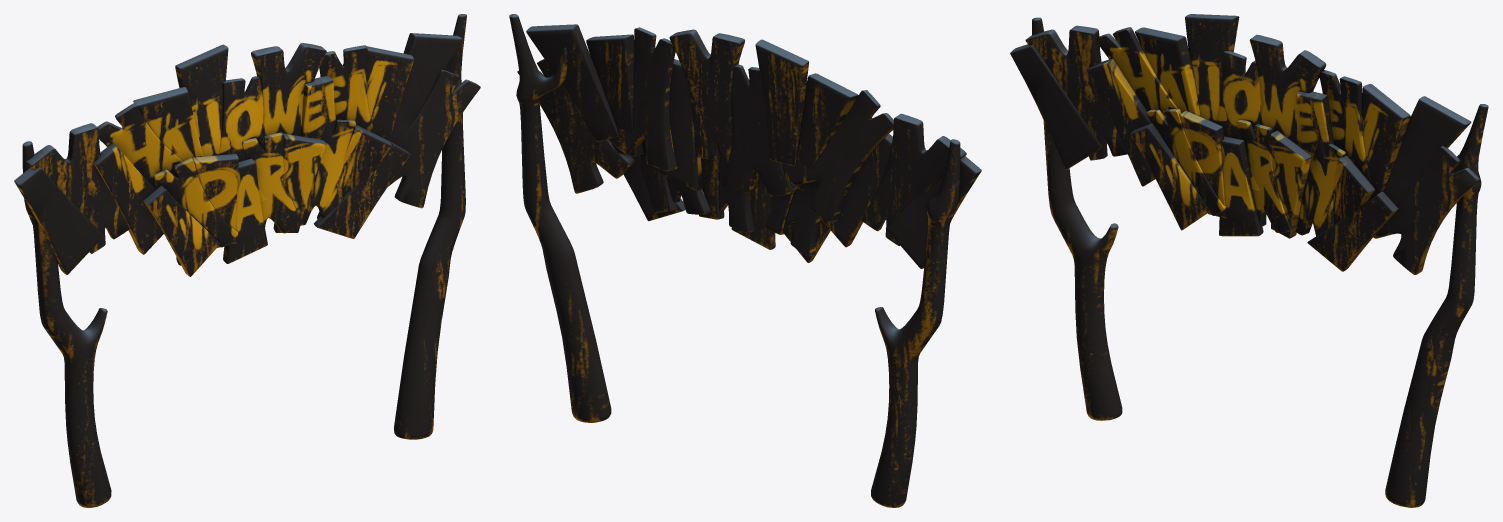
The model's file is start board.fbx.
3 views of the same model, side by side, from view 1: azimuth 30°, elevation 25°; view 2: azimuth 150°, elevation 25°; view 3: azimuth 330°, elevation 25° (orthographic).
Visible parts, largest first — view 1: _gltfNode_38.001; view 2: _gltfNode_38.001; view 3: _gltfNode_38.001.
Part boxes in pixels (x1=…): _gltfNode_38.001: x1=14, y1=14, x2=480, y2=507; _gltfNode_38.001: x1=509, y1=14, x2=981, y2=507; _gltfNode_38.001: x1=1010, y1=14, x2=1488, y2=507.
Bounding box in the file's own units: 26084 × 23120 × 2770.
Materials: 1 (1 with a texture image).
